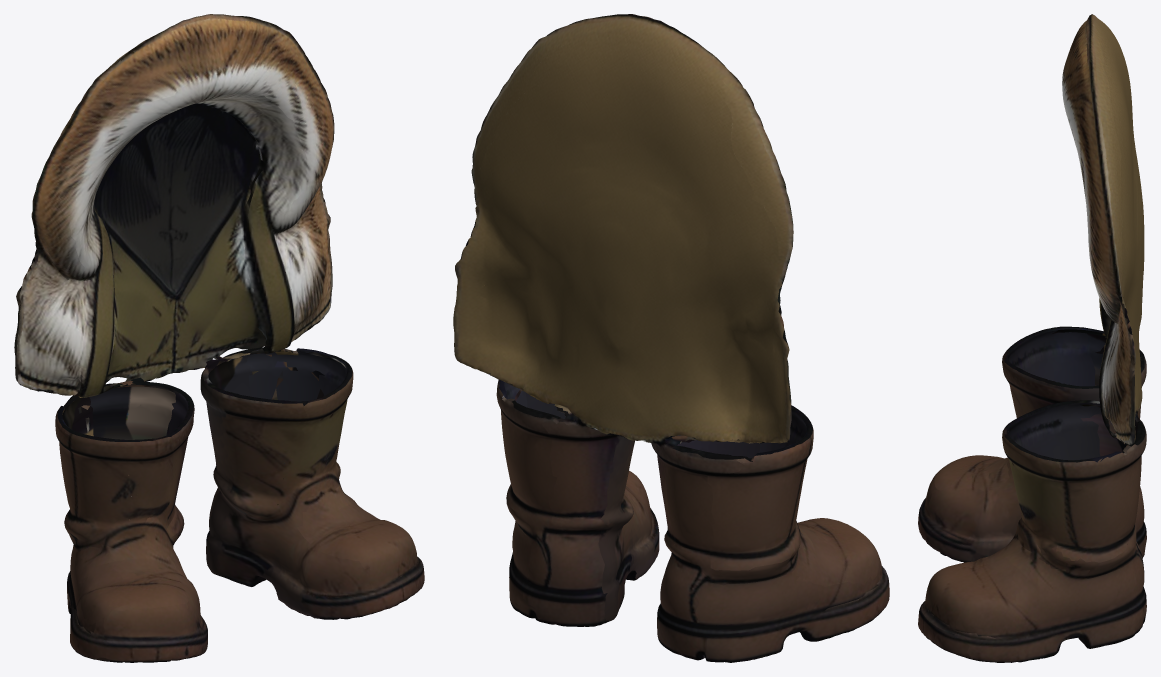
The model's file is catalog-hunting-gear-hood.glb.
The picture shows the model from 3 angles, left to right: view 1: azimuth 30°, elevation 25°; view 2: azimuth 150°, elevation 25°; view 3: azimuth 270°, elevation 25°; orthographic projection. The views are drawn at different scales.
Visible parts, largest first — view 1: tmp78cb4_uv.ply; view 2: tmp78cb4_uv.ply; view 3: tmp78cb4_uv.ply.
Boxes of the visible parts, bbox=[...] form: tmp78cb4_uv.ply: bbox=[14, 14, 424, 662]; tmp78cb4_uv.ply: bbox=[453, 14, 889, 662]; tmp78cb4_uv.ply: bbox=[918, 14, 1146, 662].
Size of the model in its own units: 1.21 by 1.96 by 0.7184.
Materials: 1 (1 with a texture image).
